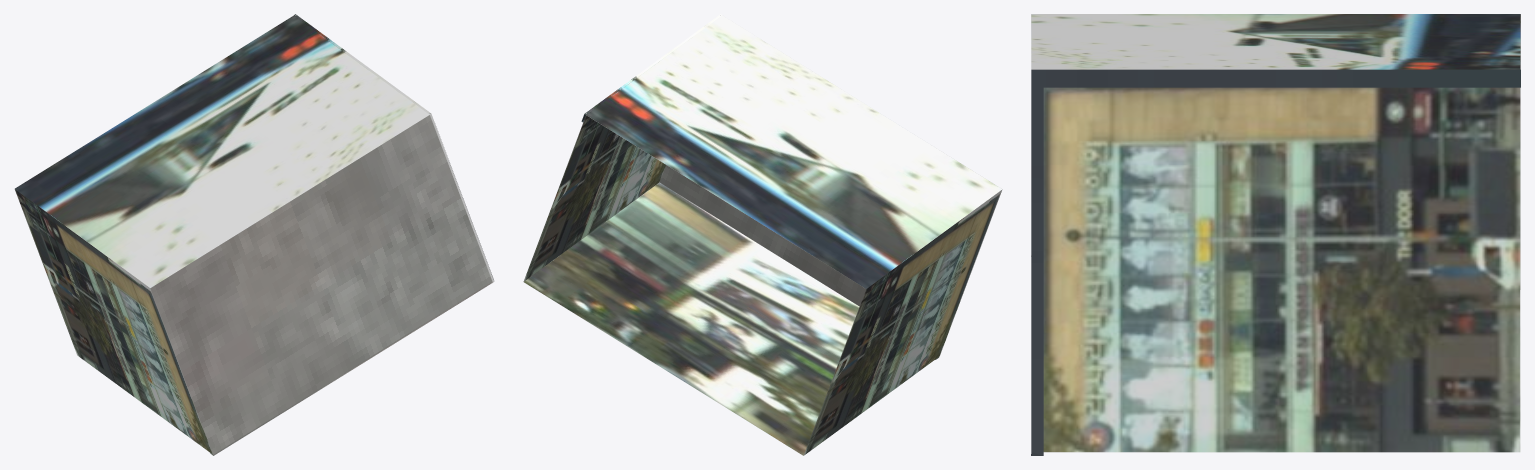
3 renders of one model, left to right at view 1: azimuth 30°, elevation 25°; view 2: azimuth 150°, elevation 25°; view 3: azimuth 270°, elevation 25°, orthographic. The views are drawn at different scales.
Visible parts, largest first — view 1: IndexedFaceSet__4_0, IndexedFaceSet__3_0, IndexedFaceSet__2_0, IndexedFaceSet__7_0; view 2: IndexedFaceSet__3_0, IndexedFaceSet__5_0, IndexedFaceSet__2_0, IndexedFaceSet, IndexedFaceSet__4_0; view 3: IndexedFaceSet, IndexedFaceSet__3_0, IndexedFaceSet__10_0.
Part boxes in pixels (bbox=[...]): IndexedFaceSet__4_0: bbox=[150, 115, 492, 454]; IndexedFaceSet__3_0: bbox=[15, 15, 429, 287]; IndexedFaceSet__2_0: bbox=[14, 189, 212, 454]; IndexedFaceSet__7_0: bbox=[213, 281, 492, 455]; IndexedFaceSet__3_0: bbox=[586, 15, 1002, 288]; IndexedFaceSet__5_0: bbox=[524, 182, 859, 455]; IndexedFaceSet__2_0: bbox=[804, 189, 1002, 455]; IndexedFaceSet: bbox=[523, 115, 665, 281]; IndexedFaceSet__4_0: bbox=[659, 165, 865, 306]; IndexedFaceSet: bbox=[1043, 87, 1520, 452]; IndexedFaceSet__3_0: bbox=[1031, 14, 1520, 69]; IndexedFaceSet__10_0: bbox=[1031, 69, 1520, 455].
Size of the model in its own units: 23.52 by 18.91 by 16.09.
Materials: 10 (9 with a texture image).
